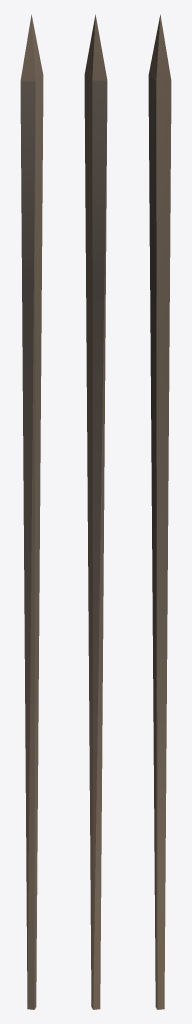
File: Speer_LOD0.dae
The picture shows the model from 3 angles, left to right: view 1: azimuth 30°, elevation 25°; view 2: azimuth 150°, elevation 25°; view 3: azimuth 330°, elevation 25°; orthographic projection.
Parts seen in each view (by area): view 1: Speer_LOD0; view 2: Speer_LOD0; view 3: Speer_LOD0.
Boxes of the visible parts, bbox=[...] form: Speer_LOD0: bbox=[20, 14, 43, 1009]; Speer_LOD0: bbox=[84, 14, 107, 1009]; Speer_LOD0: bbox=[148, 14, 171, 1009].
Bounding box in the file's own units: 0.0348 × 0.0194 × 1.44.
1 material, 1 textured.
